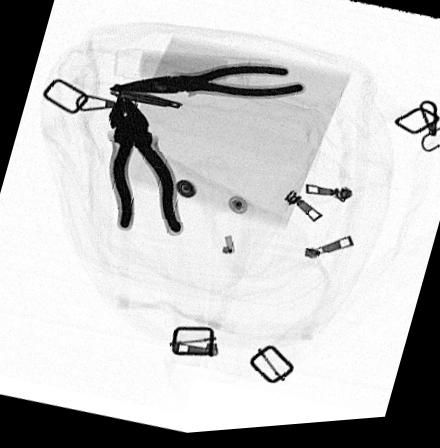Pliers: (106, 90, 182, 239), (112, 66, 310, 101)
